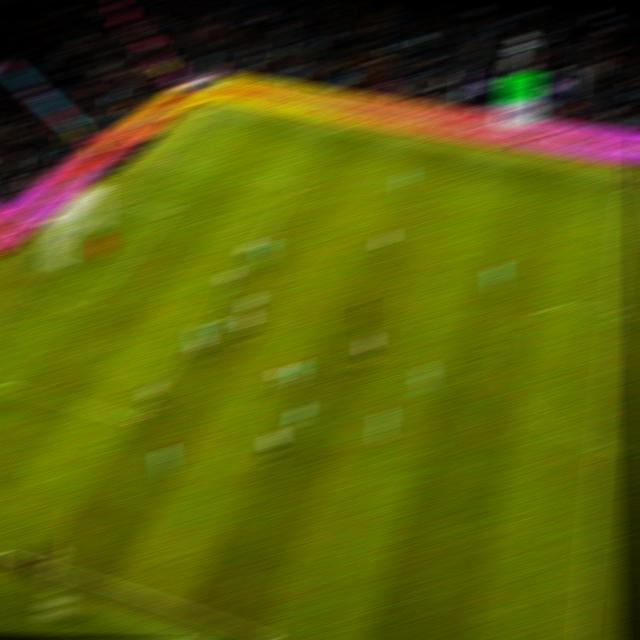bigarea_bottom_inner: (123, 416, 145, 426)
bigarea_top_inner: (286, 181, 307, 191)
bigarea_top_outter: (159, 152, 183, 166)
bottom_arc_area_intersection: (191, 316, 212, 333)
corner: (205, 106, 228, 118)
halfcircle_bottom: (587, 438, 610, 453)
halfcircle_top: (601, 305, 627, 318)
midline_top_intersection: (614, 179, 635, 190)
smallarea_bottom_inner: (74, 303, 96, 315)
smallarea_bottom_outter: (22, 290, 46, 302)
smallarea_top_inner: (162, 207, 179, 219)
smallarea_top_outter: (116, 196, 139, 207)
top_arc_area_intersection: (249, 236, 266, 250)
